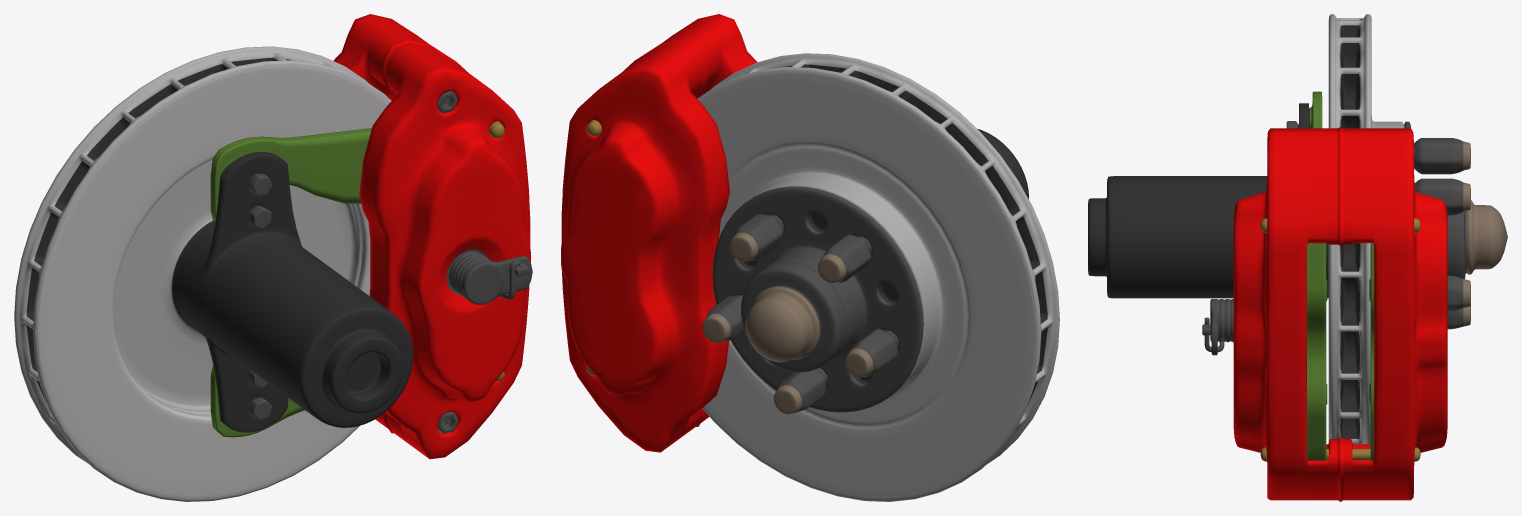
Rendered from brake-transformed.glb.
The picture shows the model from 3 angles, left to right: view 1: azimuth 30°, elevation 25°; view 2: azimuth 150°, elevation 25°; view 3: azimuth 270°, elevation 25°; orthographic projection. The views are drawn at different scales.
Visible parts, largest first — view 1: 13482_Brake_Rotor_v1_L2; view 2: 13482_Brake_Rotor_v1_L2; view 3: 13482_Brake_Rotor_v1_L2.
Part boxes in pixels (x1,y1,x2,y2): 13482_Brake_Rotor_v1_L2: (14,14,532,501); 13482_Brake_Rotor_v1_L2: (561,14,1059,501); 13482_Brake_Rotor_v1_L2: (1088,14,1507,501).
Bounding box in the file's own units: 11.48 × 10.18 × 9.56.
Materials: 1 (1 with a texture image).
